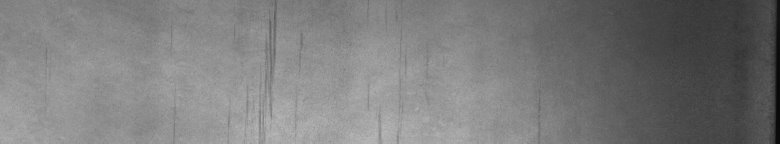ka: (256, 4, 303, 131)
